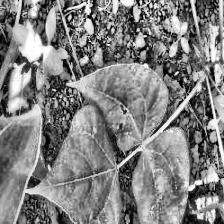ALS: (71, 62, 164, 148)
